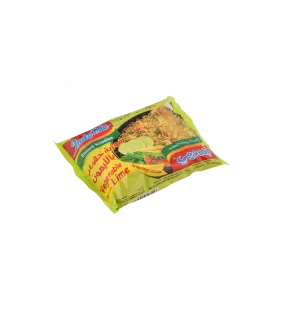INDOMIE: (44, 86, 236, 220)
